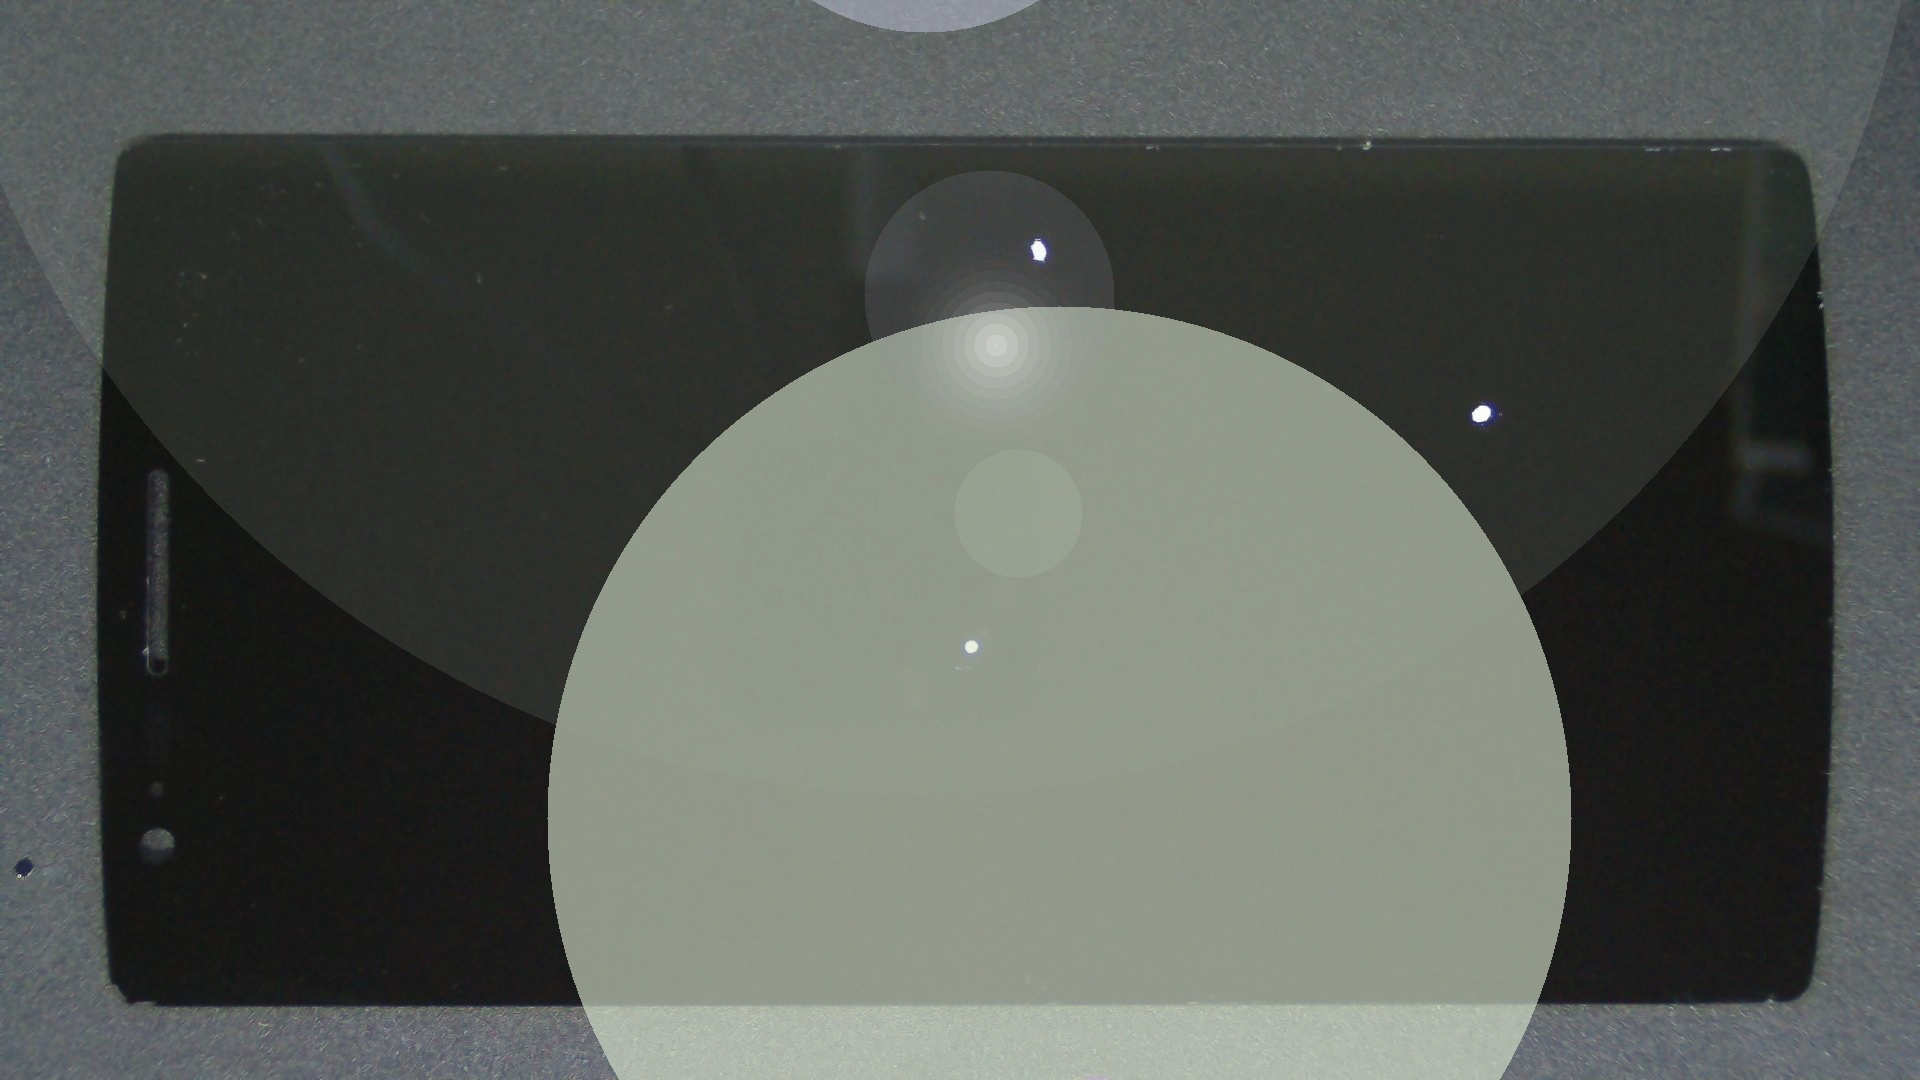oil: (485, 318, 1451, 960), (744, 196, 1920, 609), (517, 119, 1549, 357)
